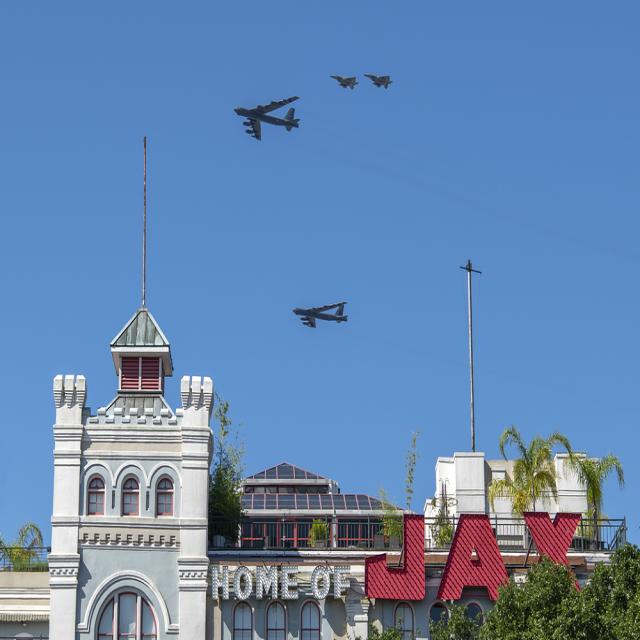MIL_Plane: (41, 96, 109, 142), (363, 72, 393, 90), (292, 118, 349, 127), (330, 74, 359, 91)
